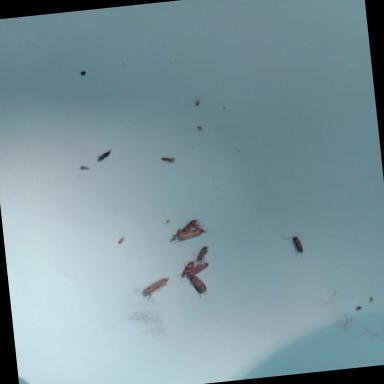pbw: (170, 228, 213, 246), (139, 276, 171, 300), (280, 236, 304, 260), (188, 275, 208, 300), (184, 262, 211, 280), (177, 260, 197, 284), (194, 246, 210, 264)
